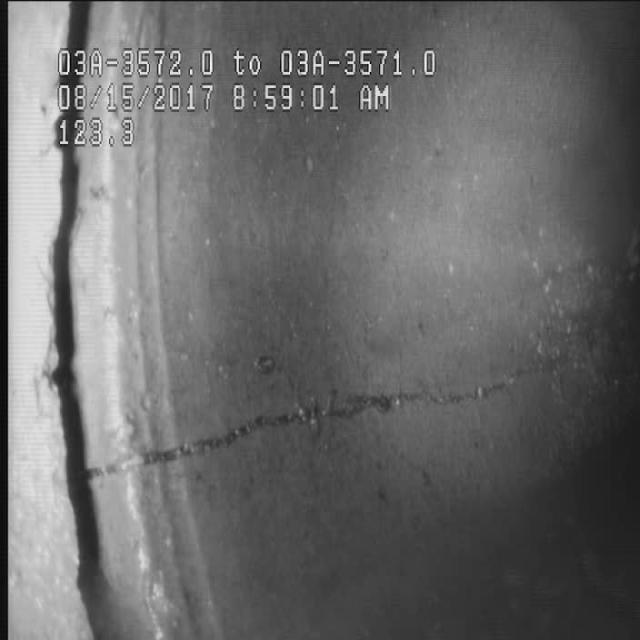Crack: (92, 324, 582, 500)
